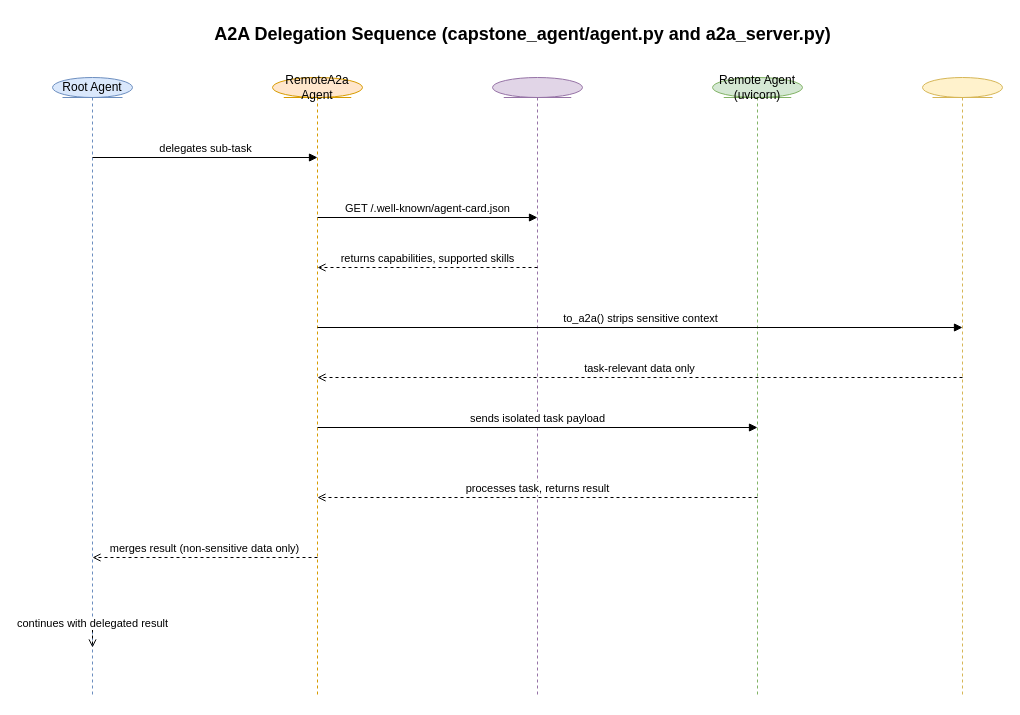
Image size: 1020x715. Some labels were removed from this diagram. Here are the shapes that lost their labels. From the top down, the box of each, then its label:
(492, 76, 582, 698): Agent Card Discovery
(922, 76, 1002, 698): Context Isolation
